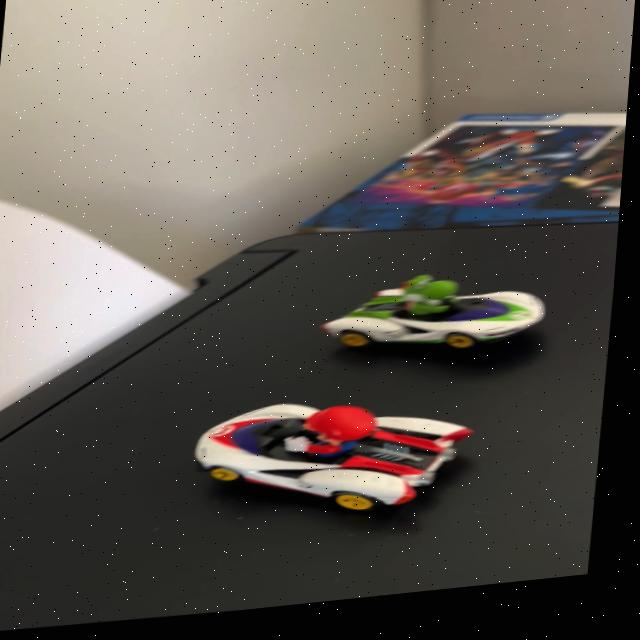mario: (175, 383, 514, 542)
yoshi: (312, 269, 553, 382)
